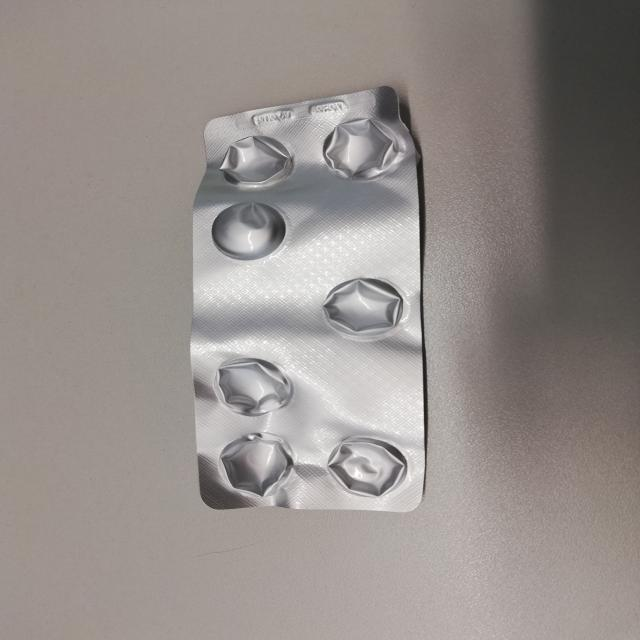Empty: (213, 429, 300, 497), (320, 274, 406, 340), (320, 118, 403, 182), (324, 435, 407, 499), (212, 356, 294, 417), (216, 132, 293, 192)
Pill: (206, 202, 290, 262)
